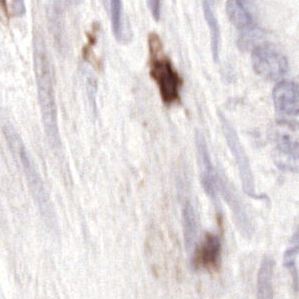Lymphocyte: (149, 55, 184, 104)
